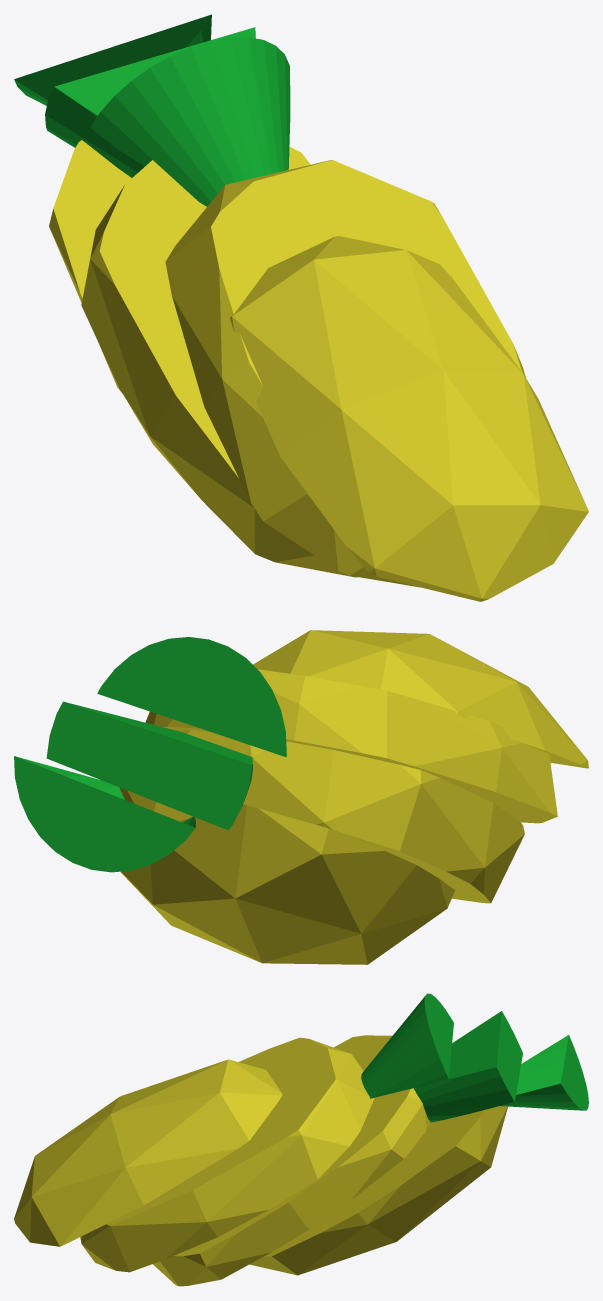
Rendered from piñacortada.fbx.
3 views of the same model, one above another, from view 1: azimuth 30°, elevation 25°; view 2: azimuth 150°, elevation 25°; view 3: azimuth 270°, elevation 25° (orthographic). The views are drawn at different scales.
Visible parts, largest first — view 1: Icosphere.001, Icosphere.002, Icosphere.003, Cone.001, Icosphere, Cone, Cone.002; view 2: Icosphere, Icosphere.003, Icosphere.002, Icosphere.001, Cone, Cone.001, Cone.002; view 3: Icosphere.001, Icosphere.002, Icosphere, Icosphere.003, Cone, Cone.001, Cone.002.
Boxes of the visible parts, x1,y1,x2,y2 form: Icosphere.001: [230, 236, 588, 601]; Icosphere.002: [165, 160, 525, 587]; Icosphere.003: [81, 158, 357, 577]; Cone.001: [89, 37, 290, 206]; Icosphere: [49, 140, 310, 393]; Cone: [45, 27, 255, 177]; Cone.002: [14, 14, 211, 105]; Icosphere: [119, 787, 454, 964]; Icosphere.003: [173, 729, 524, 903]; Icosphere.002: [145, 669, 557, 823]; Icosphere.001: [253, 630, 588, 768]; Cone: [46, 701, 252, 830]; Cone.001: [97, 637, 286, 756]; Cone.002: [14, 756, 195, 872]; Icosphere.001: [14, 1059, 282, 1246]; Icosphere.002: [80, 1037, 374, 1272]; Icosphere: [249, 1106, 507, 1275]; Icosphere.003: [153, 1035, 430, 1286]; Cone: [414, 1011, 522, 1122]; Cone.001: [361, 993, 453, 1098]; Cone.002: [501, 1035, 588, 1110].
Size of the model in its own units: 40.84 by 47.15 by 91.45.
